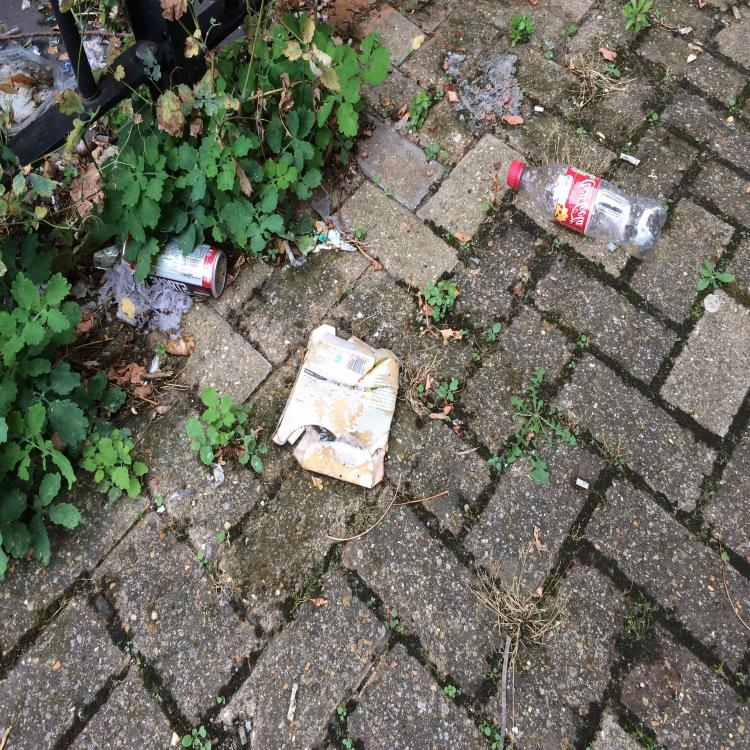Cigarette: (620, 152, 641, 165), (576, 478, 589, 488), (678, 26, 693, 34), (535, 106, 544, 112)
Clear plastic bottle: (507, 159, 667, 261)
Drink can: (122, 232, 227, 298)
Normal paper: (98, 259, 192, 339)
Plastic bottle cap: (507, 159, 522, 189)
Unlabeled litter: (82, 36, 106, 70), (93, 244, 123, 270)
